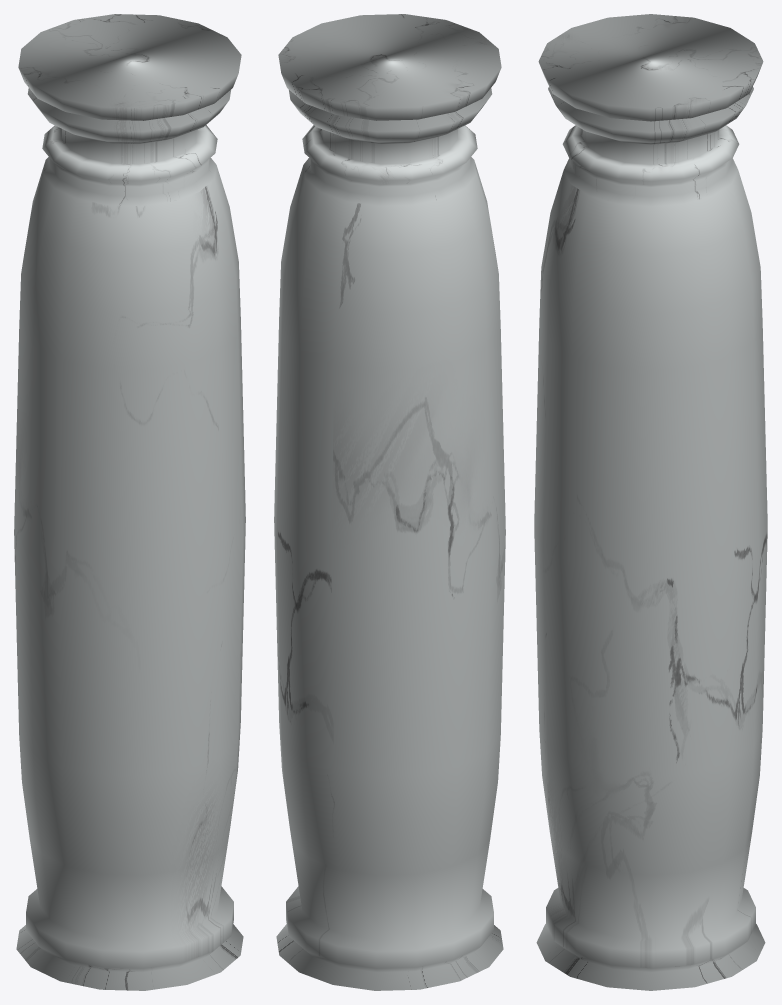
File: kolumna.fbx
The picture shows the model from 3 angles, left to right: view 1: azimuth 30°, elevation 25°; view 2: azimuth 150°, elevation 25°; view 3: azimuth 270°, elevation 25°; orthographic projection.
Visible parts, largest first — view 1: Cylinder; view 2: Cylinder; view 3: Cylinder.
Boxes of the visible parts, box(x1,y1,x2,y2) form: Cylinder: box(14, 14, 245, 990); Cylinder: box(274, 14, 505, 990); Cylinder: box(534, 14, 767, 990).
Bounding box in the file's own units: 109 × 455 × 109.
Materials: 1 (1 with a texture image).
